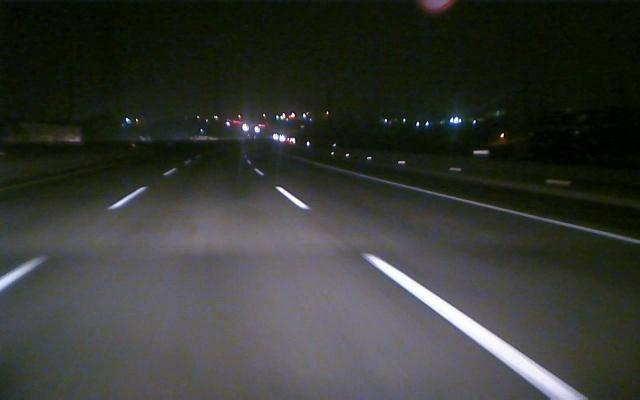lane: (255, 170, 587, 398), (359, 173, 640, 246), (2, 171, 171, 290)
